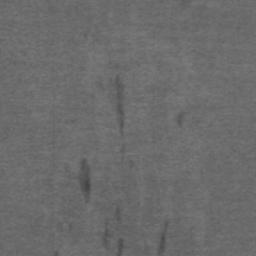Iron scale compression: (116, 74, 124, 157), (78, 158, 91, 205), (156, 215, 169, 256), (115, 191, 123, 225), (101, 217, 107, 251), (176, 110, 186, 127), (116, 238, 124, 256)
